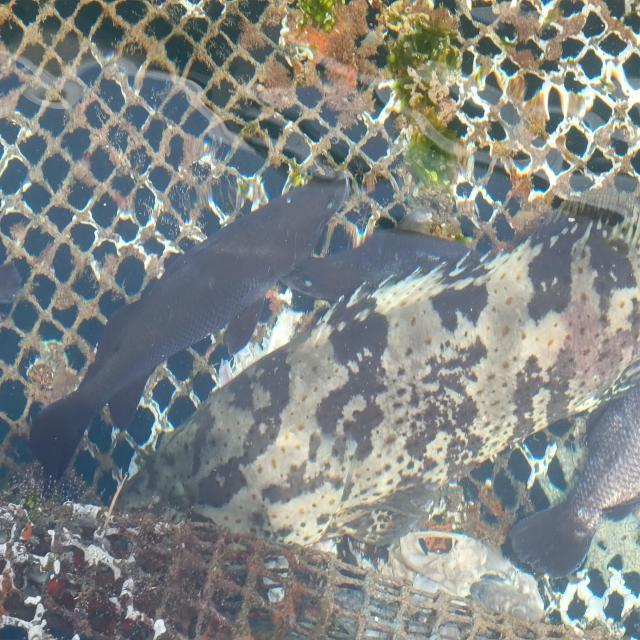ikan: (24, 178, 346, 462)
